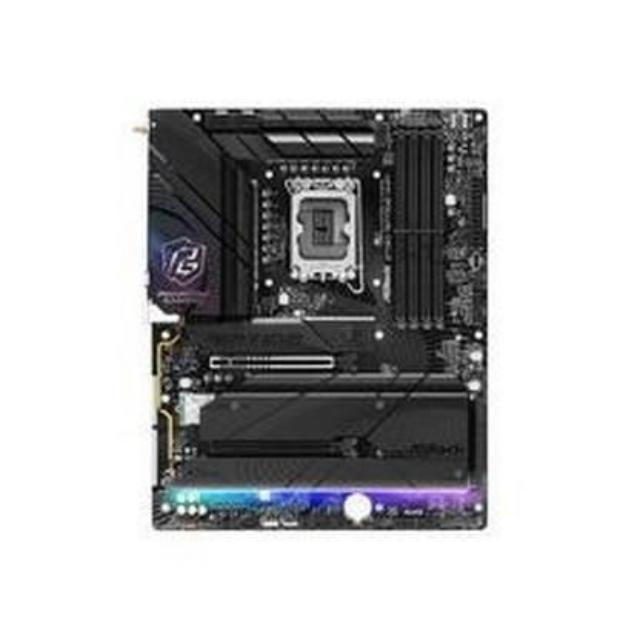Mainboard: (130, 99, 495, 538)
